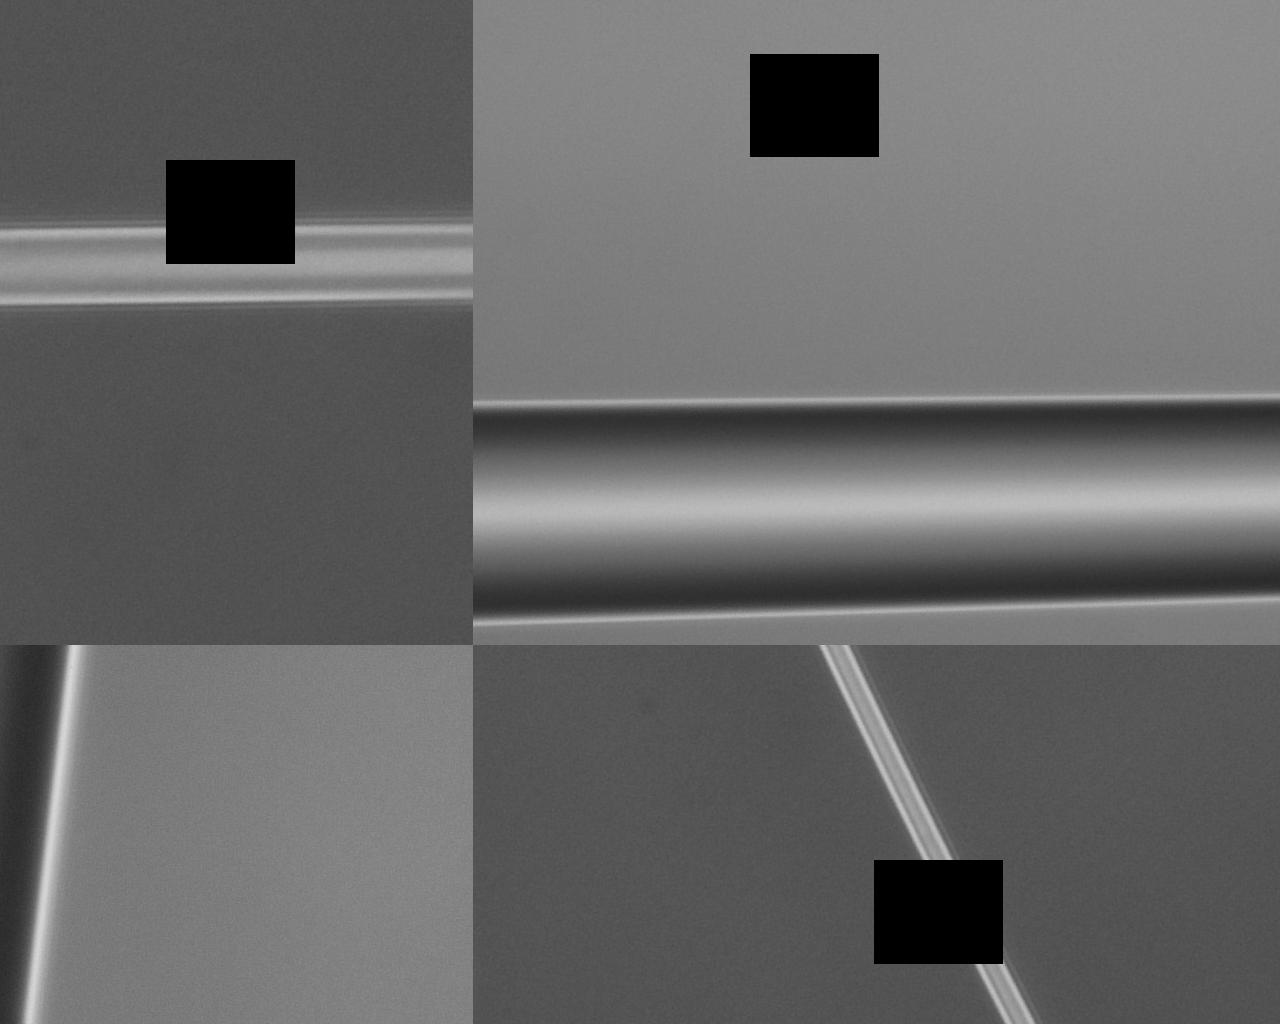fiber: (0, 234, 499, 573), (801, 0, 946, 573), (65, 573, 199, 1024), (775, 573, 795, 1024)
